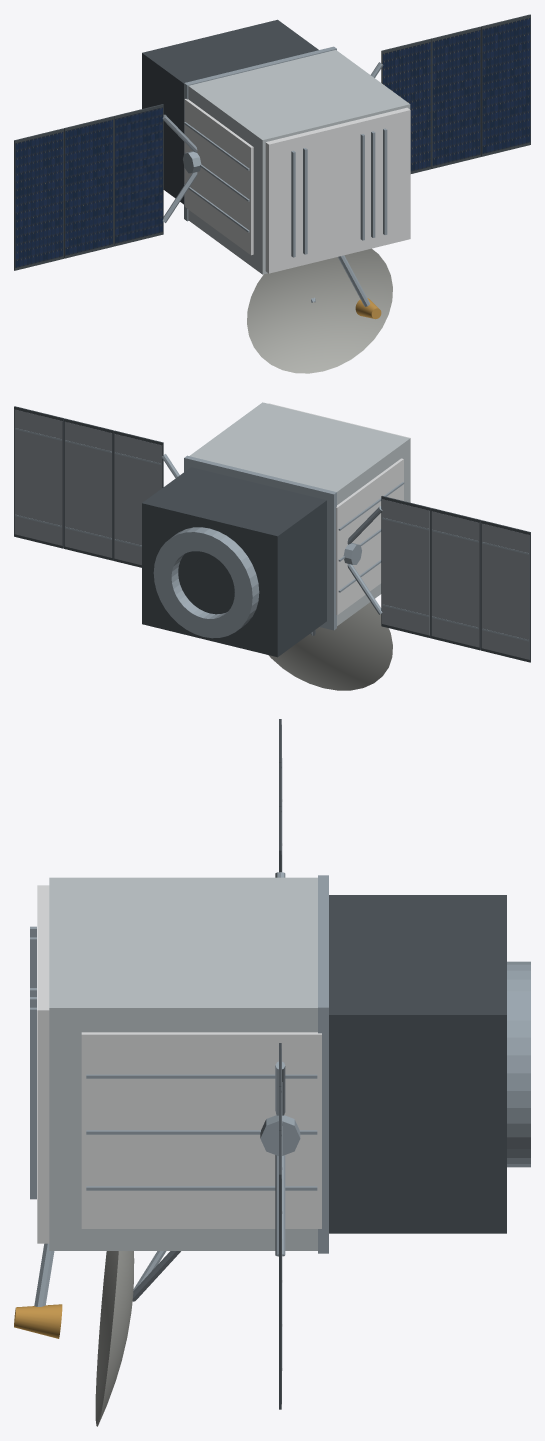
The model's file is ref-yakhta-37749.glb.
The picture shows the model from 3 angles, top to bottom: view 1: azimuth 30°, elevation 25°; view 2: azimuth 150°, elevation 25°; view 3: azimuth 270°, elevation 25°; orthographic projection. The views are drawn at different scales.
Visible parts, largest first — view 1: Solar cell panel (×6), Earth-facing deck, Payload module, Communications reflector, Service module, Radiator face, Solar panel frame (×6), Deck heat pipe (×5), Module interface; view 2: Rear array substrate (×6), Service module, Payload module, Launch adapter ring, Communications reflector, Radiator face, Solar panel frame (×6), Module interface; view 3: Service module, Payload module, Radiator face, Launch adapter ring, Earth-facing deck, Communications reflector, Module interface, Radiator seam (×3), Deck heat pipe, Feed horn, Array drive, Solar panel frame (+1 smaller).
Boxes of the visible parts, left/top/right/bottom form: Solar cell panel (×6): left=15, top=18, right=530, bottom=267; Earth-facing deck: left=265, top=107, right=410, bottom=273; Payload module: left=188, top=50, right=410, bottom=274; Communications reflector: left=247, top=248, right=392, bottom=373; Service module: left=142, top=19, right=318, bottom=204; Radiator face: left=184, top=99, right=253, bottom=255; Solar panel frame (×6): left=14, top=14, right=530, bottom=270; Deck heat pipe (×5): left=291, top=128, right=387, bottom=257; Module interface: left=184, top=46, right=336, bottom=221; Rear array substrate (×6): left=14, top=409, right=529, bottom=659; Service module: left=142, top=467, right=326, bottom=657; Payload module: left=189, top=402, right=410, bottom=625; Launch adapter ring: left=153, top=527, right=259, bottom=638; Communications reflector: left=268, top=602, right=392, bottom=690; Radiator face: left=336, top=458, right=403, bottom=615; Solar panel frame (×6): left=14, top=406, right=530, bottom=662; Module interface: left=184, top=455, right=336, bottom=630; Service module: left=329, top=895, right=506, bottom=1233; Payload module: left=49, top=877, right=317, bottom=1250; Radiator face: left=81, top=1032, right=321, bottom=1228; Launch adapter ring: left=507, top=961, right=530, bottom=1167; Earth-facing deck: left=37, top=885, right=49, bottom=1243; Communications reflector: left=95, top=1251, right=134, bottom=1426; Module interface: left=318, top=875, right=328, bottom=1253; Radiator seam (×3): left=86, top=1074, right=317, bottom=1190; Deck heat pipe: left=30, top=1007, right=36, bottom=1199; Feed horn: left=14, top=1304, right=62, bottom=1338; Array drive: left=260, top=1115, right=300, bottom=1155; Solar panel frame: left=279, top=1131, right=281, bottom=1409.
Size of the model in its own units: 6.99 by 3.36 by 3.35.
Materials: 8 (1 with a texture image).
